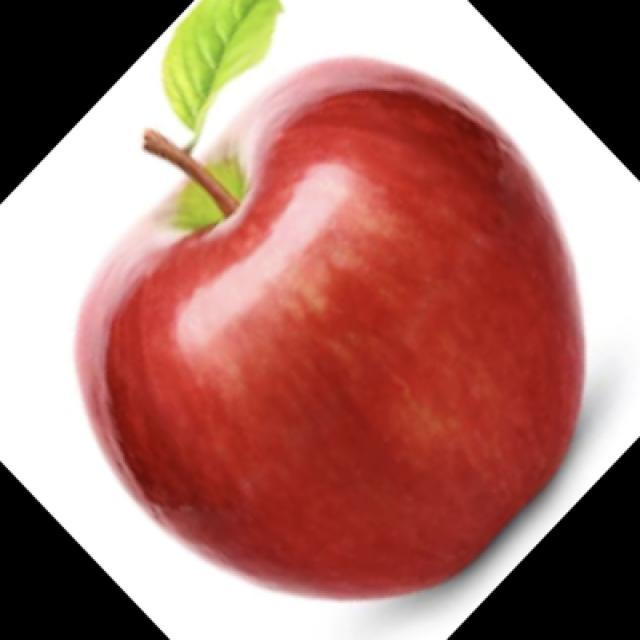Fresh Apple: (65, 47, 591, 607)
